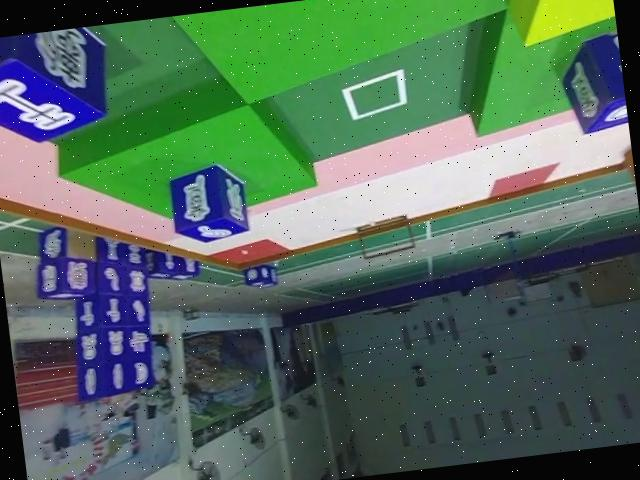R2 Fake Blue: (0, 25, 115, 149), (557, 23, 629, 135), (167, 161, 252, 248)
